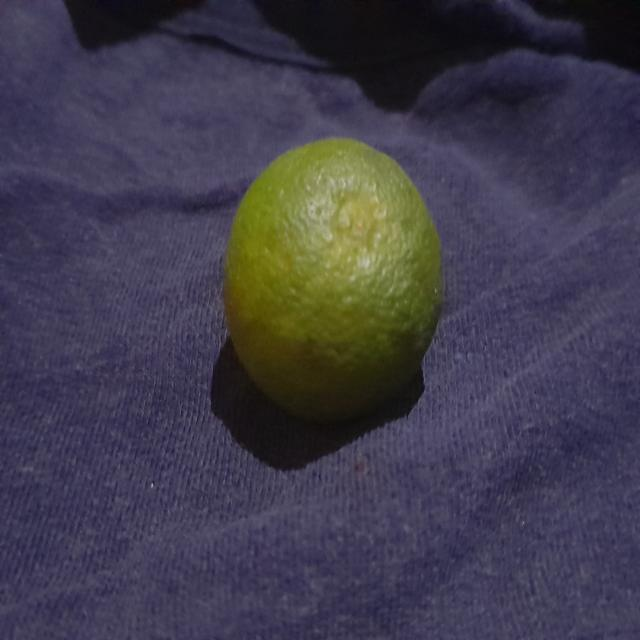heathy: (217, 129, 453, 434)
